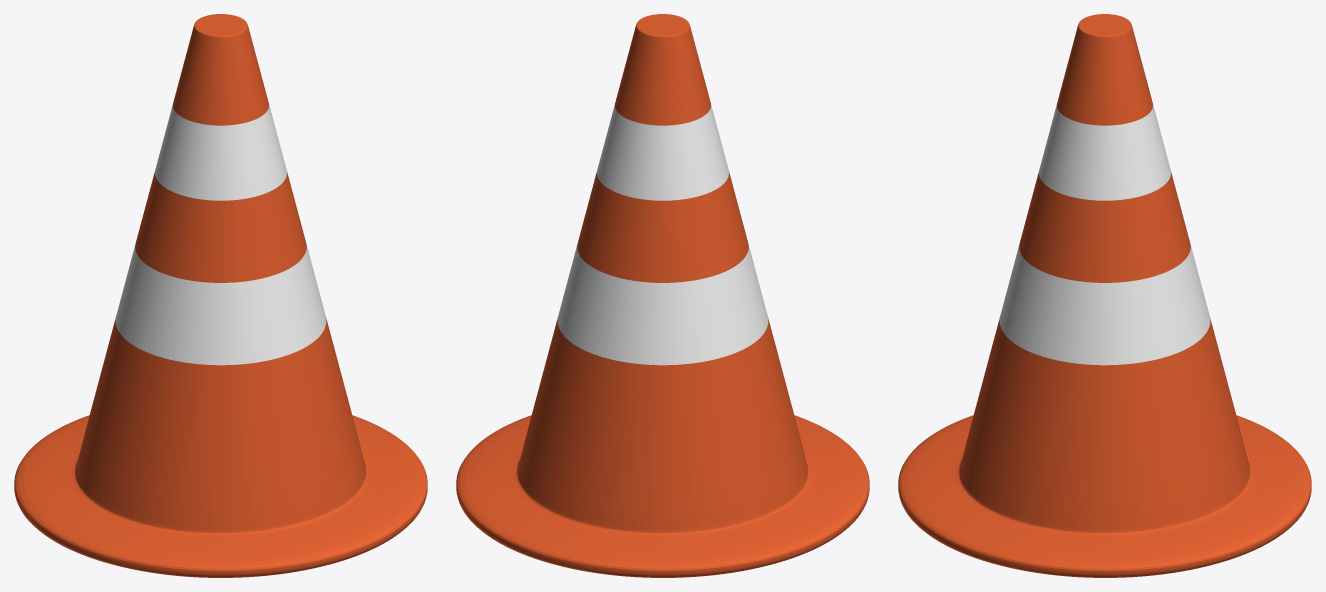
The model's file is Cone_RedAndWhite.fbx.
3 views of the same model, side by side, from view 1: azimuth 30°, elevation 25°; view 2: azimuth 150°, elevation 25°; view 3: azimuth 270°, elevation 25° (orthographic).
Visible parts, largest first — view 1: Traffic Cone; view 2: Traffic Cone; view 3: Traffic Cone.
Part boxes in pixels (x1,y1,x2,y2): Traffic Cone: (14, 14, 427, 577); Traffic Cone: (456, 14, 869, 577); Traffic Cone: (898, 14, 1311, 577).
Size of the model in its own units: 284 by 357 by 284.
